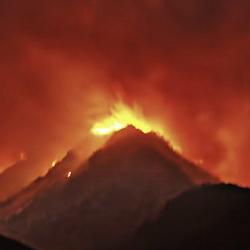fire: (89, 109, 147, 133)
